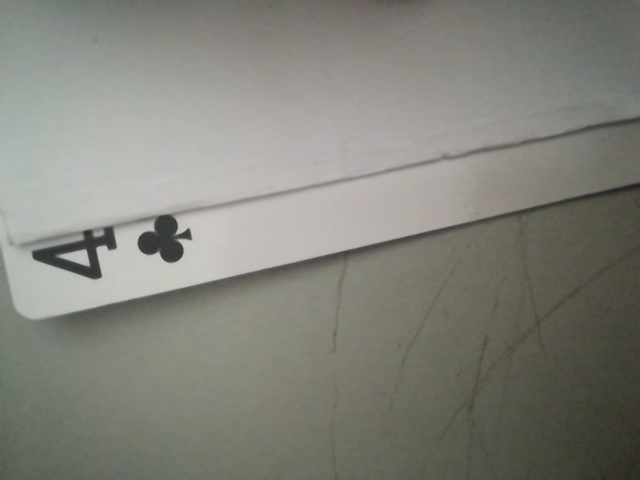mh 4: (16, 205, 210, 296)
